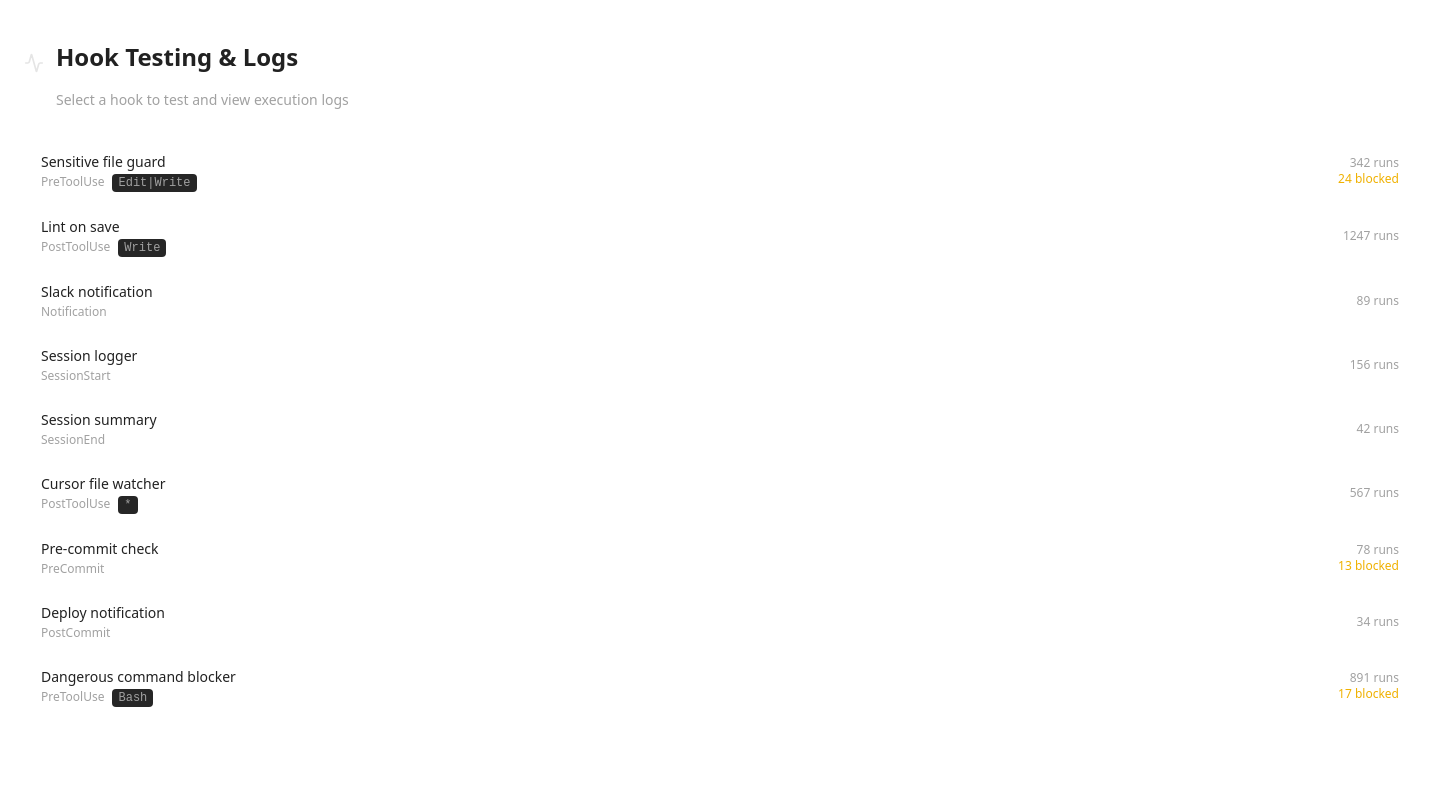
Test: HookTestingPage › should navigate back to hook list
The width and height of the screenshot is (1440, 810).
Click the text "Sensitive file guard" at (103, 161), box [41,152,166,171]
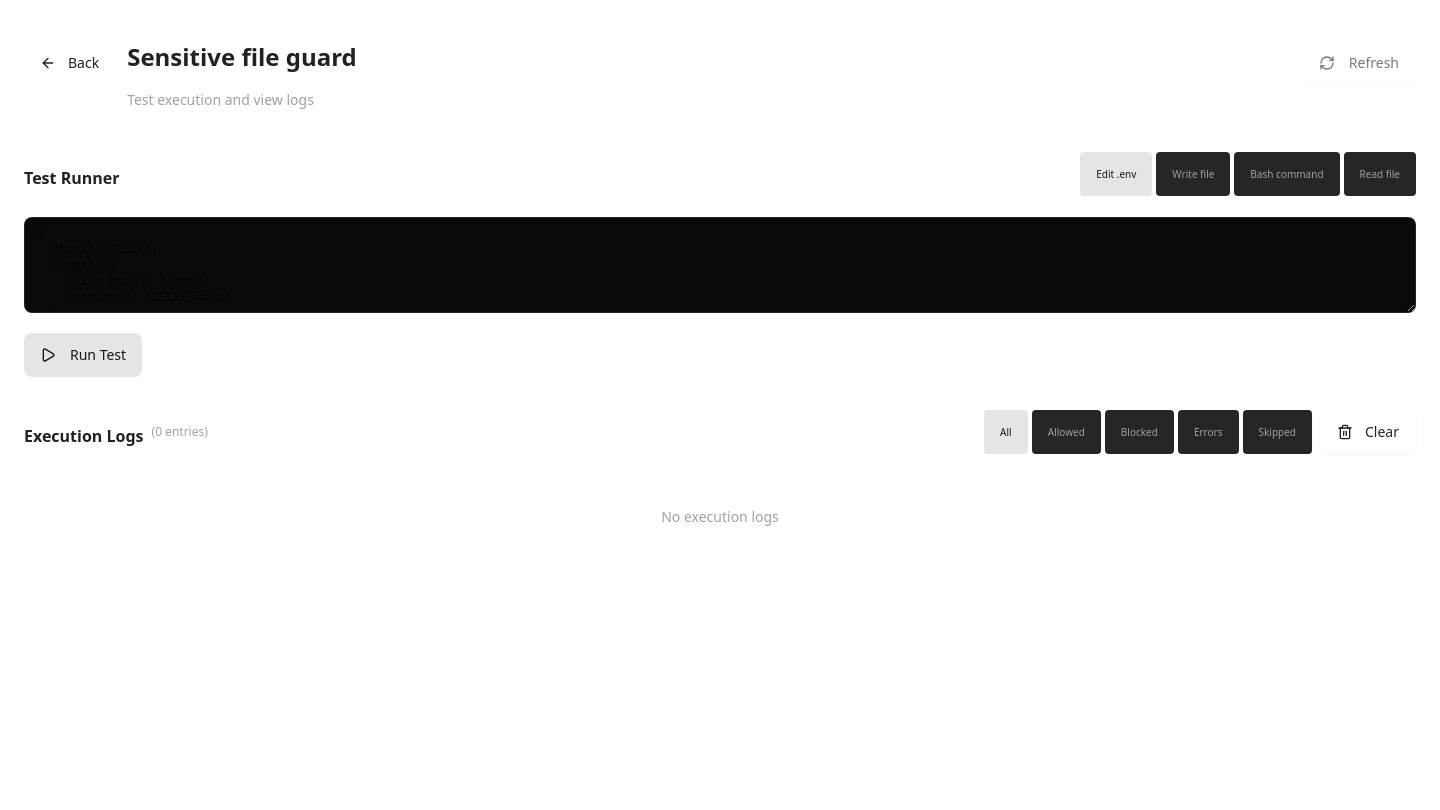
Expected: the heading "Test Runner" is shown, [24,167,120,189]
Click the button named "back to hook list" at (70, 63), box [24,41,115,85]
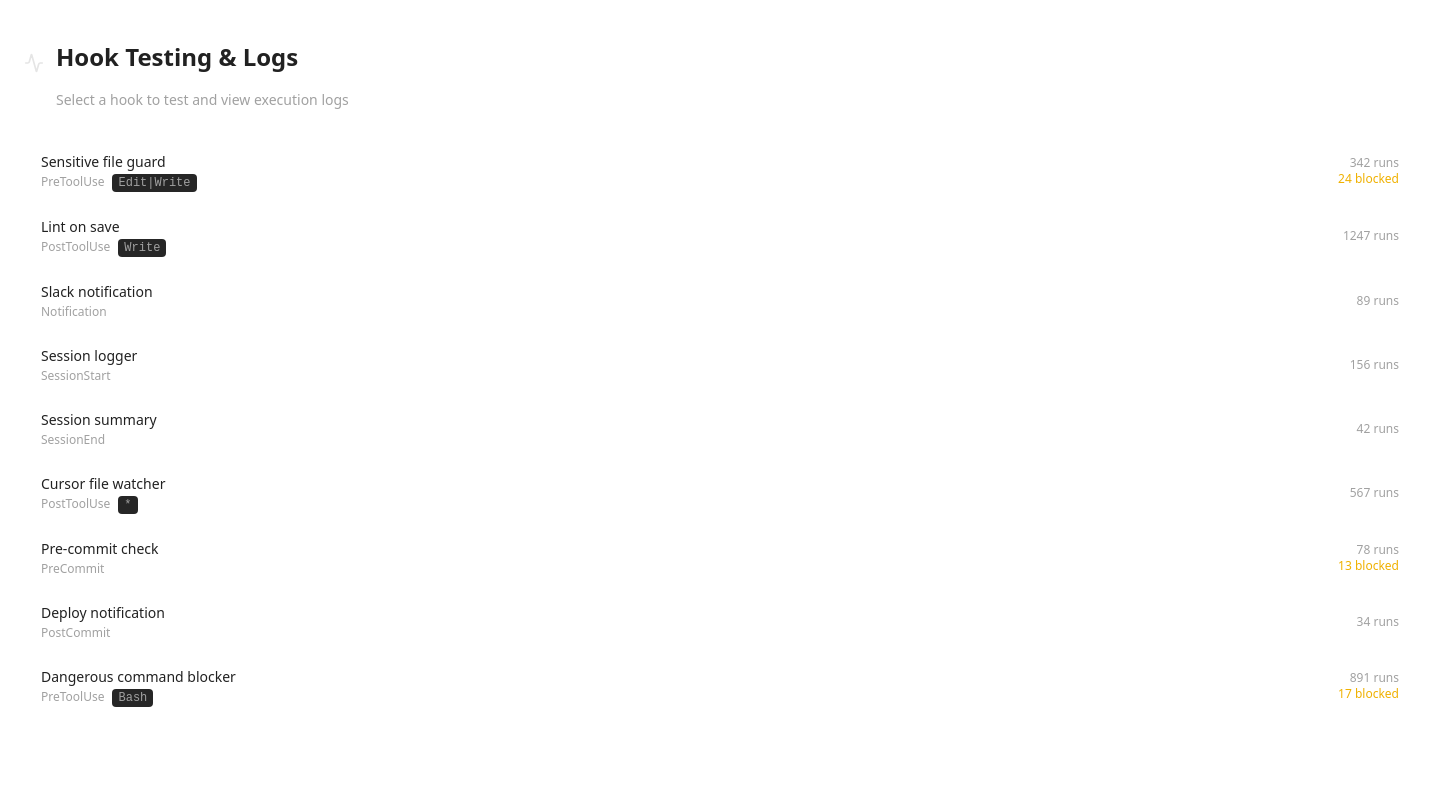
Expected: the heading "Hook Testing & Logs" is shown, [56,40,298,73]
